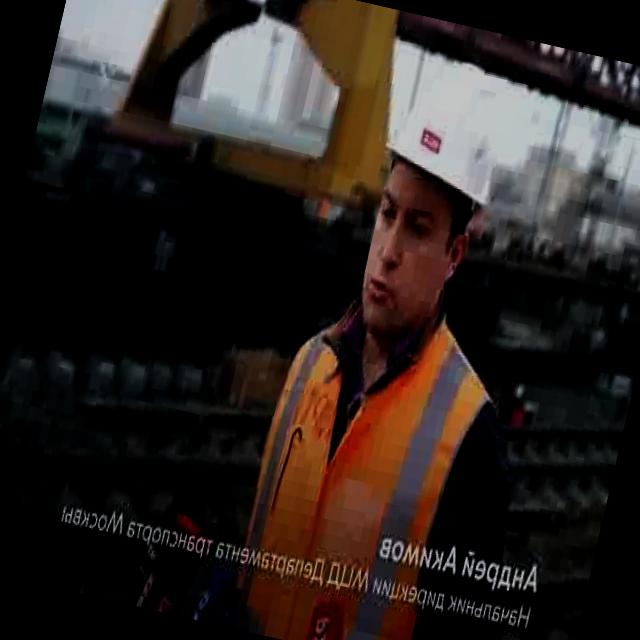vest: (222, 269, 527, 640)
